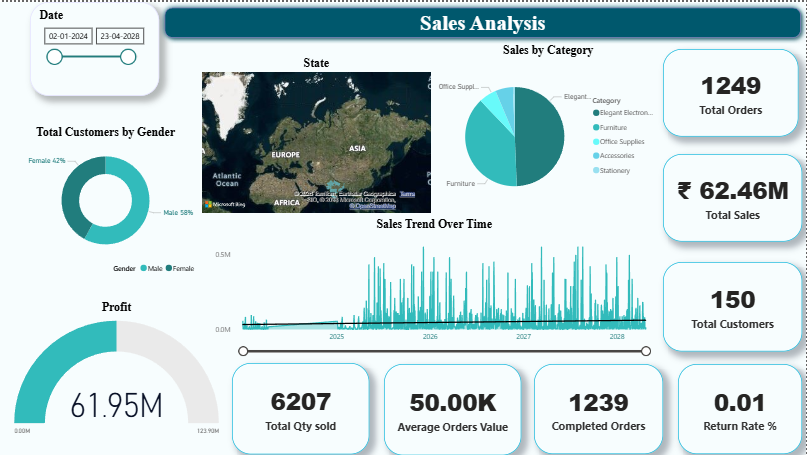

What the dashboard file says about the page in this screenshot:
{"tool":"powerbi","page":{"name":"Page 1","canvas":[1280,720],"ordinal":0},"visuals":[{"type":"card","fields":{"Values":["Sales_data.Total Orders"]},"box":[1051.6,74.7,215.1,138.9],"z":0},{"type":"card","fields":{"Values":["Return_data.Return Rate %"]},"box":[1075.5,575.1,197.2,143.4],"z":1000},{"type":"card","fields":{"Values":["Customers.Total Customers"]},"box":[1051.6,412.3,221.1,141.9],"z":2000},{"type":"card","fields":{"Values":["Sales_data.Total Sales"]},"box":[1051.6,242,221.1,138.9],"z":3000},{"type":"card","fields":{"Values":["Order_status.Completed Orders"]},"box":[847,575.1,204.6,143.4],"z":4000},{"type":"card","fields":{"Values":["Sales_data.Average Orders Value"]},"box":[610,575,218.3,145],"z":5000},{"type":"slicer","title":"Date","fields":{"Values":["Sales_data.Order_Date"]},"box":[47.8,0,204.6,149.4],"z":6000},{"type":"filledMap","fields":{"Category":["Regions.State"]},"box":[316.2,86.2,372.5,255],"z":7000},{"type":"donutChart","fields":{"Category":["Customers.Gender"],"Y":["Customers.Total Customers"]},"box":[16.7,195,300,245],"z":8000},{"type":"lineChart","title":"Sales Trend Over Time","fields":{"Y":["Sales_data.Total Sales"],"Category":["Sales_data.Order_Date"]},"box":[336.4,341.8,705.5,223.6],"z":9000},{"type":"gauge","fields":{"Y":["Sales_data.Profit"]},"box":[16.7,473.3,335,228.3],"z":10000},{"type":"pieChart","title":"Sales by Category","fields":{"Y":["Products.Top Products Sales"],"Category":["Products.Category"]},"box":[688.8,65,362.5,276.2],"z":11000},{"type":"card","fields":{"Values":["Sales_data.Total Qty sold"]},"box":[368.3,573.3,218.3,145],"z":12000},{"type":"shape","box":[252.4,0,1027.7,65.7],"z":13000}]}

Visuals, with their boxes in screenshot pixels (x1, y1, x2, y2), scaled from the page's 1280x720 canvas onto the 807x455 screenshot:
card - Sales_data.Total Orders: left=663, top=47, right=799, bottom=135
card - Return_data.Return Rate %: left=678, top=363, right=802, bottom=454
card - Customers.Total Customers: left=663, top=261, right=802, bottom=350
card - Sales_data.Total Sales: left=663, top=153, right=802, bottom=241
card - Order_status.Completed Orders: left=534, top=363, right=663, bottom=454
card - Sales_data.Average Orders Value: left=385, top=363, right=522, bottom=454
"Date" slicer: left=30, top=0, right=159, bottom=94
filledMap - Regions.State: left=199, top=54, right=434, bottom=216
donutChart - Customers.Gender x Customers.Total Customers: left=11, top=123, right=200, bottom=278
"Sales Trend Over Time" lineChart: left=212, top=216, right=657, bottom=357
gauge - Sales_data.Profit: left=11, top=299, right=222, bottom=443
"Sales by Category" pieChart: left=434, top=41, right=663, bottom=216
card - Sales_data.Total Qty sold: left=232, top=362, right=370, bottom=454
shape: left=159, top=0, right=806, bottom=42
